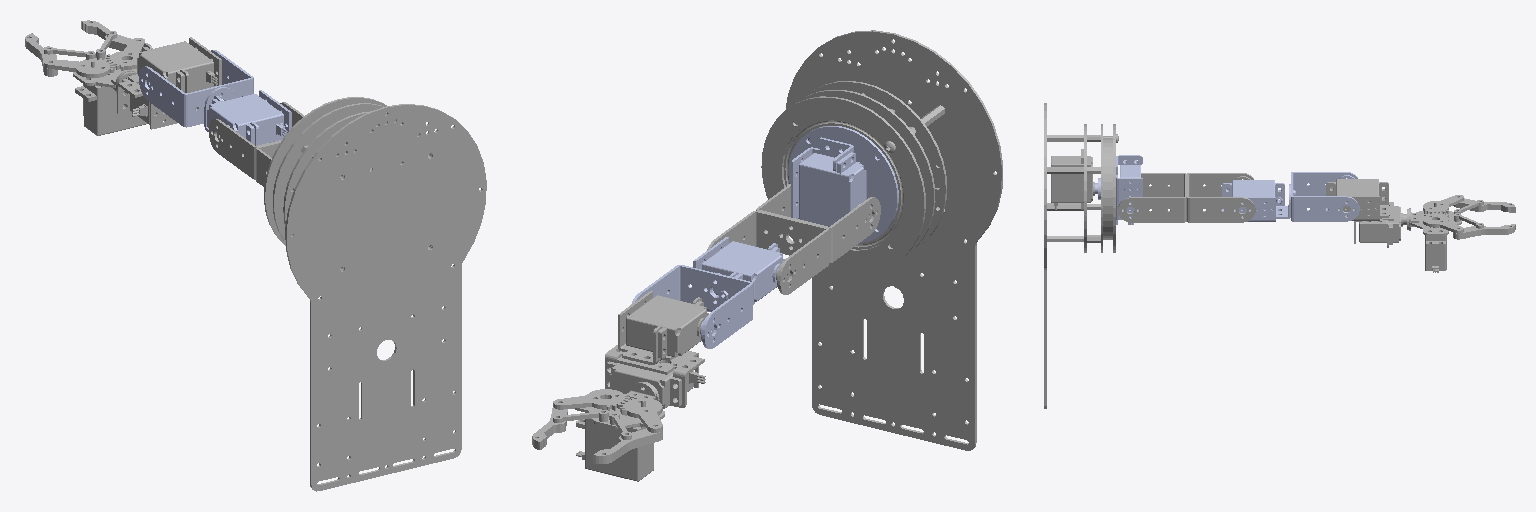
robot.urdf — auto_arm:
<?xml version="1.0" encoding="utf-8"?>
<!-- This URDF was automatically created by SolidWorks to URDF Exporter! Originally created by [author] ([email redacted]) 
     Commit Version: 1.5.1-0-g916b5db  Build Version: 1.5.7152.31018
     For more information, please see http://wiki.ros.org/sw_urdf_exporter -->
<robot
  name="auto_arm">
  <link
    name="base_link">
    <inertial>
      <origin
        xyz="0.029116 0.026153 0.17253"
        rpy="0 0 0" />
      <mass
        value="1.1172" />
      <inertia
        ixx="0.0037637"
        ixy="-2.3712E-15"
        ixz="-3.8793E-12"
        iyy="0.0050982"
        iyz="2.0357E-09"
        izz="0.001353" />
    </inertial>
    <visual>
      <origin
        xyz="0 0 0"
        rpy="0 0 0" />
      <geometry>
        <mesh
          filename="package://auto_arm/meshes/base_link.STL" />
      </geometry>
      <material
        name="">
        <color
          rgba="0.75294 0.75294 0.75294 1" />
      </material>
    </visual>
    <collision>
      <origin
        xyz="0 0 0"
        rpy="0 0 0" />
      <geometry>
        <mesh
          filename="package://auto_arm/meshes/base_link.STL" />
      </geometry>
    </collision>
  </link>
  <link
    name="link1">
    <inertial>
      <origin
        xyz="0.0016658 0.012438 9.9069E-05"
        rpy="0 0 0" />
      <mass
        value="0.23074" />
      <inertia
        ixx="8.1763E-05"
        ixy="-1.1886E-06"
        ixz="-2.0753E-09"
        iyy="0.00015072"
        iyz="6.8816E-16"
        izz="7.6359E-05" />
    </inertial>
    <visual>
      <origin
        xyz="0 0 0"
        rpy="0 0 0" />
      <geometry>
        <mesh
          filename="package://auto_arm/meshes/link1.STL" />
      </geometry>
      <material
        name="">
        <color
          rgba="0.79216 0.81961 0.93333 1" />
      </material>
    </visual>
    <collision>
      <origin
        xyz="0 0 0"
        rpy="0 0 0" />
      <geometry>
        <mesh
          filename="package://auto_arm/meshes/link1.STL" />
      </geometry>
    </collision>
  </link>
  <joint
    name="joint1"
    type="revolute">
    <origin
      xyz="0.02925 0.052 0.2"
      rpy="0 0 0" />
    <parent
      link="base_link" />
    <child
      link="link1" />
    <axis
      xyz="0 -1 0" />
    <limit
      lower="-1.57"
      upper="1.57"
      effort="1000"
      velocity="1000" />
  </joint>
  <link
    name="link2">
    <inertial>
      <origin
        xyz="-0.025203 -0.052 3.9274E-14"
        rpy="0 0 0" />
      <mass
        value="0.13068" />
      <inertia
        ixx="5.6028E-05"
        ixy="-1.5416E-19"
        ixz="9.2783E-17"
        iyy="8.0474E-05"
        iyz="3.2776E-20"
        izz="0.00012283" />
    </inertial>
    <visual>
      <origin
        xyz="0 0 0"
        rpy="0 0 0" />
      <geometry>
        <mesh
          filename="package://auto_arm/meshes/link2.STL" />
      </geometry>
      <material
        name="">
        <color
          rgba="0.75294 0.75294 0.75294 1" />
      </material>
    </visual>
    <collision>
      <origin
        xyz="0 0 0"
        rpy="0 0 0" />
      <geometry>
        <mesh
          filename="package://auto_arm/meshes/link2.STL" />
      </geometry>
    </collision>
  </link>
  <joint
    name="joint2"
    type="revolute">
    <origin
      xyz="-0.027 0.028 -0.009655"
      rpy="0 0 3.1416" />
    <parent
      link="link1" />
    <child
      link="link2" />
    <axis
      xyz="-1 0 0" />
    <limit
      lower="-1.57"
      upper="1.57"
      effort="1000"
      velocity="1000" />
  </joint>
  <link
    name="link3">
    <inertial>
      <origin
        xyz="-0.0285121340027484 -0.0358856866082483 -0.002867593806336"
        rpy="0 0 0" />
      <mass
        value="0.162773107195286" />
      <inertia
        ixx="5.22090681473768E-05"
        ixy="-2.0356577639145E-09"
        ixz="1.18860474363804E-06"
        iyy="5.76190599595044E-05"
        iyz="1.00741644087675E-06"
        izz="9.31154626486254E-05" />
    </inertial>
    <visual>
      <origin
        xyz="0 0 0"
        rpy="0 0 0" />
      <geometry>
        <mesh
          filename="package://auto_arm/meshes/link3.STL" />
      </geometry>
      <material
        name="">
        <color
          rgba="0.792156862745098 0.819607843137255 0.933333333333333 1" />
      </material>
    </visual>
    <collision>
      <origin
        xyz="0 0 0"
        rpy="0 0 0" />
      <geometry>
        <mesh
          filename="package://auto_arm/meshes/link3.STL" />
      </geometry>
    </collision>
  </link>
  <joint
    name="joint3"
    type="revolute">
    <origin
      xyz="0 -0.104 0"
      rpy="0 0 0" />
    <parent
      link="link2" />
    <child
      link="link3" />
    <axis
      xyz="-1 0 0" />
    <limit
      lower="-1.57"
      upper="1.57"
      effort="1000"
      velocity="1000" />
  </joint>
  <link
    name="link4">
    <inertial>
      <origin
        xyz="-0.0289627044010144 -0.01763920786162 -0.0140034022549493"
        rpy="0 0 0" />
      <mass
        value="0.154402122820399" />
      <inertia
        ixx="3.54886415336179E-05"
        ixy="-2.83295093415387E-15"
        ixz="1.18860474672051E-06"
        iyy="3.54886415891226E-05"
        iyz="1.18860474194435E-06"
        izz="5.63939104721804E-05" />
    </inertial>
    <visual>
      <origin
        xyz="0 0 0"
        rpy="0 0 0" />
      <geometry>
        <mesh
          filename="package://auto_arm/meshes/link4.STL" />
      </geometry>
      <material
        name="">
        <color
          rgba="0.752941176470588 0.752941176470588 0.752941176470588 1" />
      </material>
    </visual>
    <collision>
      <origin
        xyz="0 0 0"
        rpy="0 0 0" />
      <geometry>
        <mesh
          filename="package://auto_arm/meshes/link4.STL" />
      </geometry>
    </collision>
  </link>
  <joint
    name="joint4"
    type="revolute">
    <origin
      xyz="0 -0.0965 0.001"
      rpy="0 0 0" />
    <parent
      link="link3" />
    <child
      link="link4" />
    <axis
      xyz="-1 0 0" />
    <limit
      lower="-1.57"
      upper="1.57"
      effort="1000"
      velocity="1000" />
  </joint>
  <link
    name="link5">
    <inertial>
      <origin
        xyz="0.00259364943739334 0.0221828219294715 -0.0102285522348278"
        rpy="0 0 0" />
      <mass
        value="0.0689215236406201" />
      <inertia
        ixx="9.16181340971708E-06"
        ixy="3.01117807974515E-14"
        ixz="-8.96077783551701E-09"
        iyy="1.46302038778484E-05"
        iyz="2.60919354891856E-15"
        izz="1.53174982547922E-05" />
    </inertial>
    <visual>
      <origin
        xyz="0 0 0"
        rpy="0 0 0" />
      <geometry>
        <mesh
          filename="package://auto_arm/meshes/link5.STL" />
      </geometry>
      <material
        name="">
        <color
          rgba="0.752941176470588 0.752941176470588 0.752941176470588 1" />
      </material>
    </visual>
    <collision>
      <origin
        xyz="0 0 0"
        rpy="0 0 0" />
      <geometry>
        <mesh
          filename="package://auto_arm/meshes/link5.STL" />
      </geometry>
    </collision>
  </link>
  <joint
    name="joint5"
    type="revolute">
    <origin
      xyz="-0.016 -0.0575 -0.028"
      rpy="0 0 3.1416" />
    <parent
      link="link4" />
    <child
      link="link5" />
    <axis
      xyz="0 -1 0" />
    <limit
      lower="-1.57"
      upper="1.57"
      effort="1000"
      velocity="1000" />
  </joint>
  <link
    name="link2claw_l">
    <inertial>
      <origin
        xyz="-0.00428273428213723 0.00496335811522741 0.00449518479871097"
        rpy="0 0 0" />
      <mass
        value="0.0164458535032276" />
      <inertia
        ixx="1.44810435349495E-06"
        ixy="9.78731377949986E-07"
        ixz="-1.77031283388271E-09"
        iyy="1.59829104748052E-06"
        iyz="1.10106659537759E-09"
        izz="3.02172263753921E-06" />
    </inertial>
    <visual>
      <origin
        xyz="0 0 0"
        rpy="0 0 0" />
      <geometry>
        <mesh
          filename="package://auto_arm/meshes/link2claw_l.STL" />
      </geometry>
      <material
        name="">
        <color
          rgba="0.752941176470588 0.752941176470588 0.752941176470588 1" />
      </material>
    </visual>
    <collision>
      <origin
        xyz="0 0 0"
        rpy="0 0 0" />
      <geometry>
        <mesh
          filename="package://auto_arm/meshes/link2claw_l.STL" />
      </geometry>
    </collision>
  </link>
  <joint
    name="joint2claw_l"
    type="revolute">
    <origin
      xyz="-0.013751 0.025 0.00098453"
      rpy="0 0 0" />
    <parent
      link="link5" />
    <child
      link="link2claw_l" />
    <axis
      xyz="-0.001125 0 1" />
    <limit
      lower="-1.57"
      upper="1.57"
      effort="1000"
      velocity="1000" />
  </joint>
  <link
    name="claw_l">
    <inertial>
      <origin
        xyz="-0.00647594898631632 -0.0207505630009963 0.00800729046399976"
        rpy="0 0 0" />
      <mass
        value="0.0212441347941244" />
      <inertia
        ixx="5.58553151423163E-06"
        ixy="-1.10199553946668E-06"
        ixz="4.13536703419688E-10"
        iyy="4.95055526270404E-07"
        iyz="1.2397379956302E-09"
        izz="5.95312130128495E-06" />
    </inertial>
    <visual>
      <origin
        xyz="0 0 0"
        rpy="0 0 0" />
      <geometry>
        <mesh
          filename="package://auto_arm/meshes/claw_l.STL" />
      </geometry>
      <material
        name="">
        <color
          rgba="0.752941176470588 0.752941176470588 0.752941176470588 1" />
      </material>
    </visual>
    <collision>
      <origin
        xyz="0 0 0"
        rpy="0 0 0" />
      <geometry>
        <mesh
          filename="package://auto_arm/meshes/claw_l.STL" />
      </geometry>
    </collision>
  </link>
  <joint
    name="joint_claw_l"
    type="revolute">
    <origin
      xyz="-0.021101 0.021315 -0.0080237"
      rpy="0 0 3.1416" />
    <parent
      link="link2claw_l" />
    <child
      link="claw_l" />
    <axis
      xyz="0.001125 0 1" />
    <limit
      lower="-1.57"
      upper="1.57"
      effort="0"
      velocity="0" />
  </joint>
  <link
    name="link2claw_r">
    <inertial>
      <origin
        xyz="-0.00429824490989507 -0.00528839759163124 0.00850484087712225"
        rpy="0 0 0" />
      <mass
        value="0.0154350460669349" />
      <inertia
        ixx="1.41620252219815E-06"
        ixy="-9.55864862493892E-07"
        ixz="1.74380661942577E-09"
        iyy="1.57321359421582E-06"
        iyz="1.07534191045589E-09"
        izz="2.96625962377078E-06" />
    </inertial>
    <visual>
      <origin
        xyz="0 0 0"
        rpy="0 0 0" />
      <geometry>
        <mesh
          filename="package://auto_arm/meshes/link2claw_r.STL" />
      </geometry>
      <material
        name="">
        <color
          rgba="0.752941176470588 0.752941176470588 0.752941176470588 1" />
      </material>
    </visual>
    <collision>
      <origin
        xyz="0 0 0"
        rpy="0 0 0" />
      <geometry>
        <mesh
          filename="package://auto_arm/meshes/link2claw_r.STL" />
      </geometry>
    </collision>
  </link>
  <joint
    name="joint2claw_r"
    type="revolute">
    <origin
      xyz="0.014003 0.025 -0.0029842"
      rpy="0 0 3.1416" />
    <parent
      link="link5" />
    <child
      link="link2claw_r" />
    <axis
      xyz="0.001125 0 1" />
    <limit
      lower="-1.57"
      upper="1.57"
      effort="1000"
      velocity="1000" />
  </joint>
  <link
    name="claw_r">
    <inertial>
      <origin
        xyz="0.00649394887454682 -0.020750563000988 0.00799269941113095"
        rpy="0 0 0" />
      <mass
        value="0.0212441347941245" />
      <inertia
        ixx="5.58553151423161E-06"
        ixy="1.10199553946684E-06"
        ixz="4.13536703420397E-10"
        iyy="4.9505552627047E-07"
        iyz="-1.23973799563355E-09"
        izz="5.95312130128499E-06" />
    </inertial>
    <visual>
      <origin
        xyz="0 0 0"
        rpy="0 0 0" />
      <geometry>
        <mesh
          filename="package://auto_arm/meshes/claw_r.STL" />
      </geometry>
      <material
        name="">
        <color
          rgba="0.752941176470588 0.752941176470588 0.752941176470588 1" />
      </material>
    </visual>
    <collision>
      <origin
        xyz="0 0 0"
        rpy="0 0 0" />
      <geometry>
        <mesh
          filename="package://auto_arm/meshes/claw_r.STL" />
      </geometry>
    </collision>
  </link>
  <joint
    name="joint_claw_r"
    type="revolute">
    <origin
      xyz="-0.020865 -0.021315 -0.0039765"
      rpy="0 0 0" />
    <parent
      link="link2claw_r" />
    <child
      link="claw_r" />
    <axis
      xyz="0.001125 0 1" />
    <limit
      lower="-1.57"
      upper="1.57"
      effort="0"
      velocity="0" />
  </joint>
  <link
    name="link7_l">
    <inertial>
      <origin
        xyz="-0.0106539100519405 0.0105641801212029 0.004488017266361"
        rpy="0 0 0" />
      <mass
        value="0.00310035256856879" />
      <inertia
        ixx="2.08698705345823E-07"
        ixy="2.01412895220639E-07"
        ixz="-2.33170183786456E-10"
        iyy="2.11914344737064E-07"
        iyz="2.2658823023543E-10"
        izz="4.15961996600077E-07" />
    </inertial>
    <visual>
      <origin
        xyz="0 0 0"
        rpy="0 0 0" />
      <geometry>
        <mesh
          filename="package://auto_arm/meshes/link7_l.STL" />
      </geometry>
      <material
        name="">
        <color
          rgba="0.752941176470588 0.752941176470588 0.752941176470588 1" />
      </material>
    </visual>
    <collision>
      <origin
        xyz="0 0 0"
        rpy="0 0 0" />
      <geometry>
        <mesh
          filename="package://auto_arm/meshes/link7_l.STL" />
      </geometry>
    </collision>
  </link>
  <joint
    name="joint7_l"
    type="revolute">
    <origin
      xyz="-0.0040011 0.045 0.0009955"
      rpy="0 0 0" />
    <parent
      link="link5" />
    <child
      link="link7_l" />
    <axis
      xyz="-0.001125 0 1" />
    <limit
      lower="-1.57"
      upper="1.57"
      effort="1000"
      velocity="1000" />
  </joint>
  <link
    name="link7_r">
    <inertial>
      <origin
        xyz="0.010644 0.010564 0.004512"
        rpy="0 0 0" />
      <mass
        value="0.0031004" />
      <inertia
        ixx="2.087E-07"
        ixy="-2.0141E-07"
        ixz="-2.3317E-10"
        iyy="2.1191E-07"
        iyz="-2.2659E-10"
        izz="4.1596E-07" />
    </inertial>
    <visual>
      <origin
        xyz="0 0 0"
        rpy="0 0 0" />
      <geometry>
        <mesh
          filename="package://auto_arm/meshes/link7_r.STL" />
      </geometry>
      <material
        name="">
        <color
          rgba="0.75294 0.75294 0.75294 1" />
      </material>
    </visual>
    <collision>
      <origin
        xyz="0 0 0"
        rpy="0 0 0" />
      <geometry>
        <mesh
          filename="package://auto_arm/meshes/link7_r.STL" />
      </geometry>
    </collision>
  </link>
  <joint
    name="joint7_r"
    type="revolute">
    <origin
      xyz="0.0039989 0.045 0.0010045"
      rpy="0 0 0" />
    <parent
      link="link5" />
    <child
      link="link7_r" />
    <axis
      xyz="-0.001125 0 1" />
    <limit
      lower="-1.57"
      upper="1.57"
      effort="1000"
      velocity="1000" />
  </joint>
</robot>

--- What the picture shows (computed from the rendered views, not written in the file) ---
3 views of the same robot in one strip: view 1: azimuth 30°, elevation 25°; view 2: azimuth 150°, elevation 25°; view 3: azimuth 270°, elevation 25° (orthographic).
Robot: auto_arm — 12 links, 11 joints (11 revolute); root link base_link; default pose: every joint at zero.
Visible links, largest first — view 1: base_link, link3, link4, link5, link2, link2claw_l, link2claw_r, claw_r; view 2: base_link, link1, link4, link3, link2, link5, link2claw_r, claw_l, link2claw_l, claw_r; view 3: base_link, link2, link3, link4, link5, link1, claw_r.
Link boxes in pixels (box(x1,y1,x2,y2)): base_link: box(264, 97, 486, 491); link3: box(139, 50, 291, 145); link4: box(117, 37, 221, 129); link5: box(73, 55, 146, 135); link2: box(209, 102, 303, 186); link2claw_l: box(44, 58, 114, 77); link2claw_r: box(106, 38, 144, 70); claw_r: box(81, 20, 131, 50); base_link: box(761, 30, 1002, 450); link1: box(789, 126, 898, 242); link4: box(605, 291, 708, 408); link3: box(631, 237, 784, 348); link2: box(707, 184, 880, 294); link5: box(575, 382, 664, 481); link2claw_r: box(553, 389, 629, 410); claw_l: box(593, 428, 662, 463); link2claw_l: box(620, 397, 662, 432); claw_r: box(532, 407, 567, 449); base_link: box(1044, 103, 1118, 408); link2: box(1118, 173, 1255, 222); link3: box(1222, 172, 1359, 221); link4: box(1326, 179, 1402, 247); link5: box(1403, 202, 1461, 272); link1: box(1095, 155, 1142, 224); claw_r: box(1453, 224, 1515, 239).
Size in the robot's own frame: 0.1597 by 0.437 by 0.28 metres.
12 mesh visuals loaded from 12 distinct referenced files (12 binary STL).